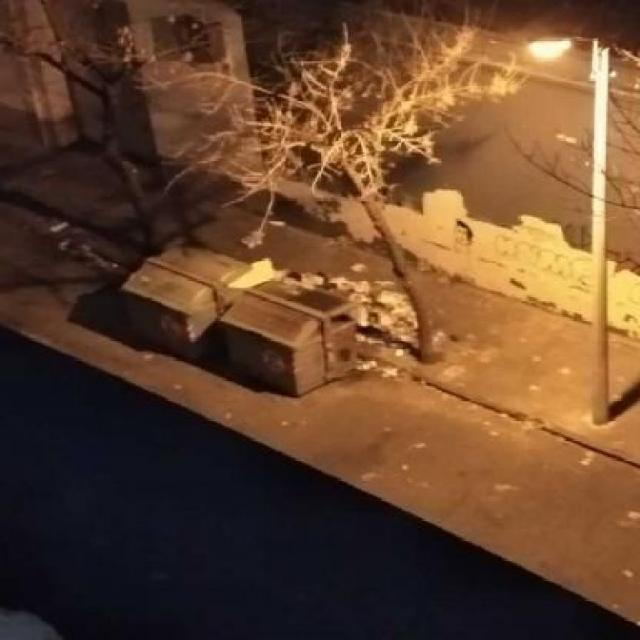garbage: (75, 220, 466, 432)
